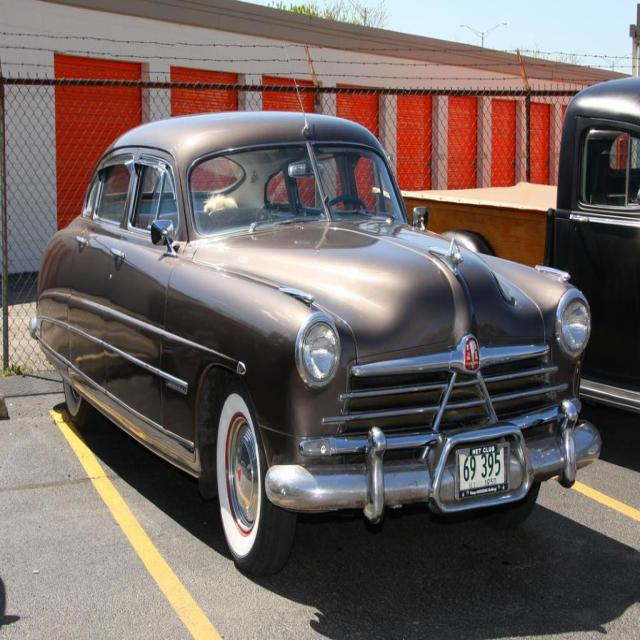car: (26, 119, 605, 573)
